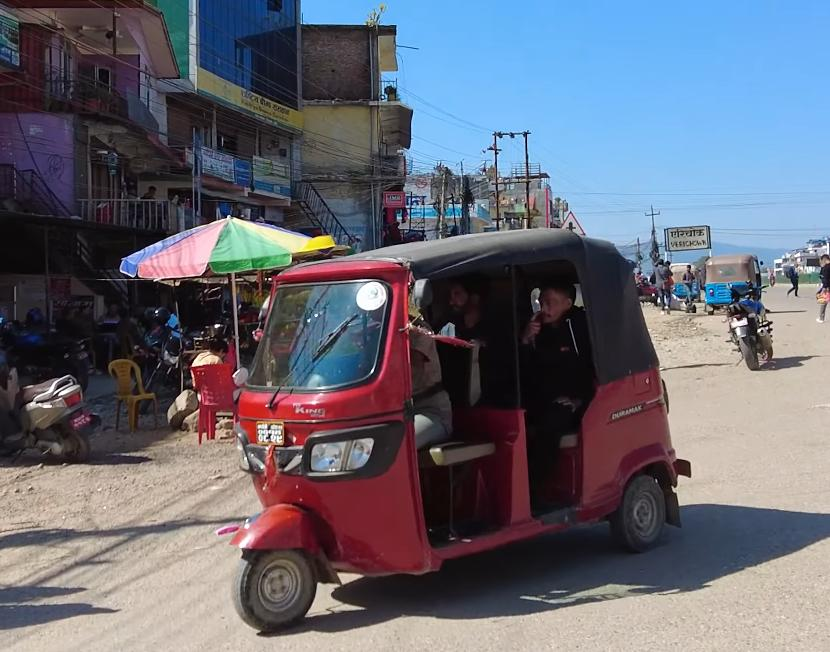auto_rickshaw: (217, 224, 697, 637), (703, 251, 765, 312)
bike: (719, 290, 778, 379)
